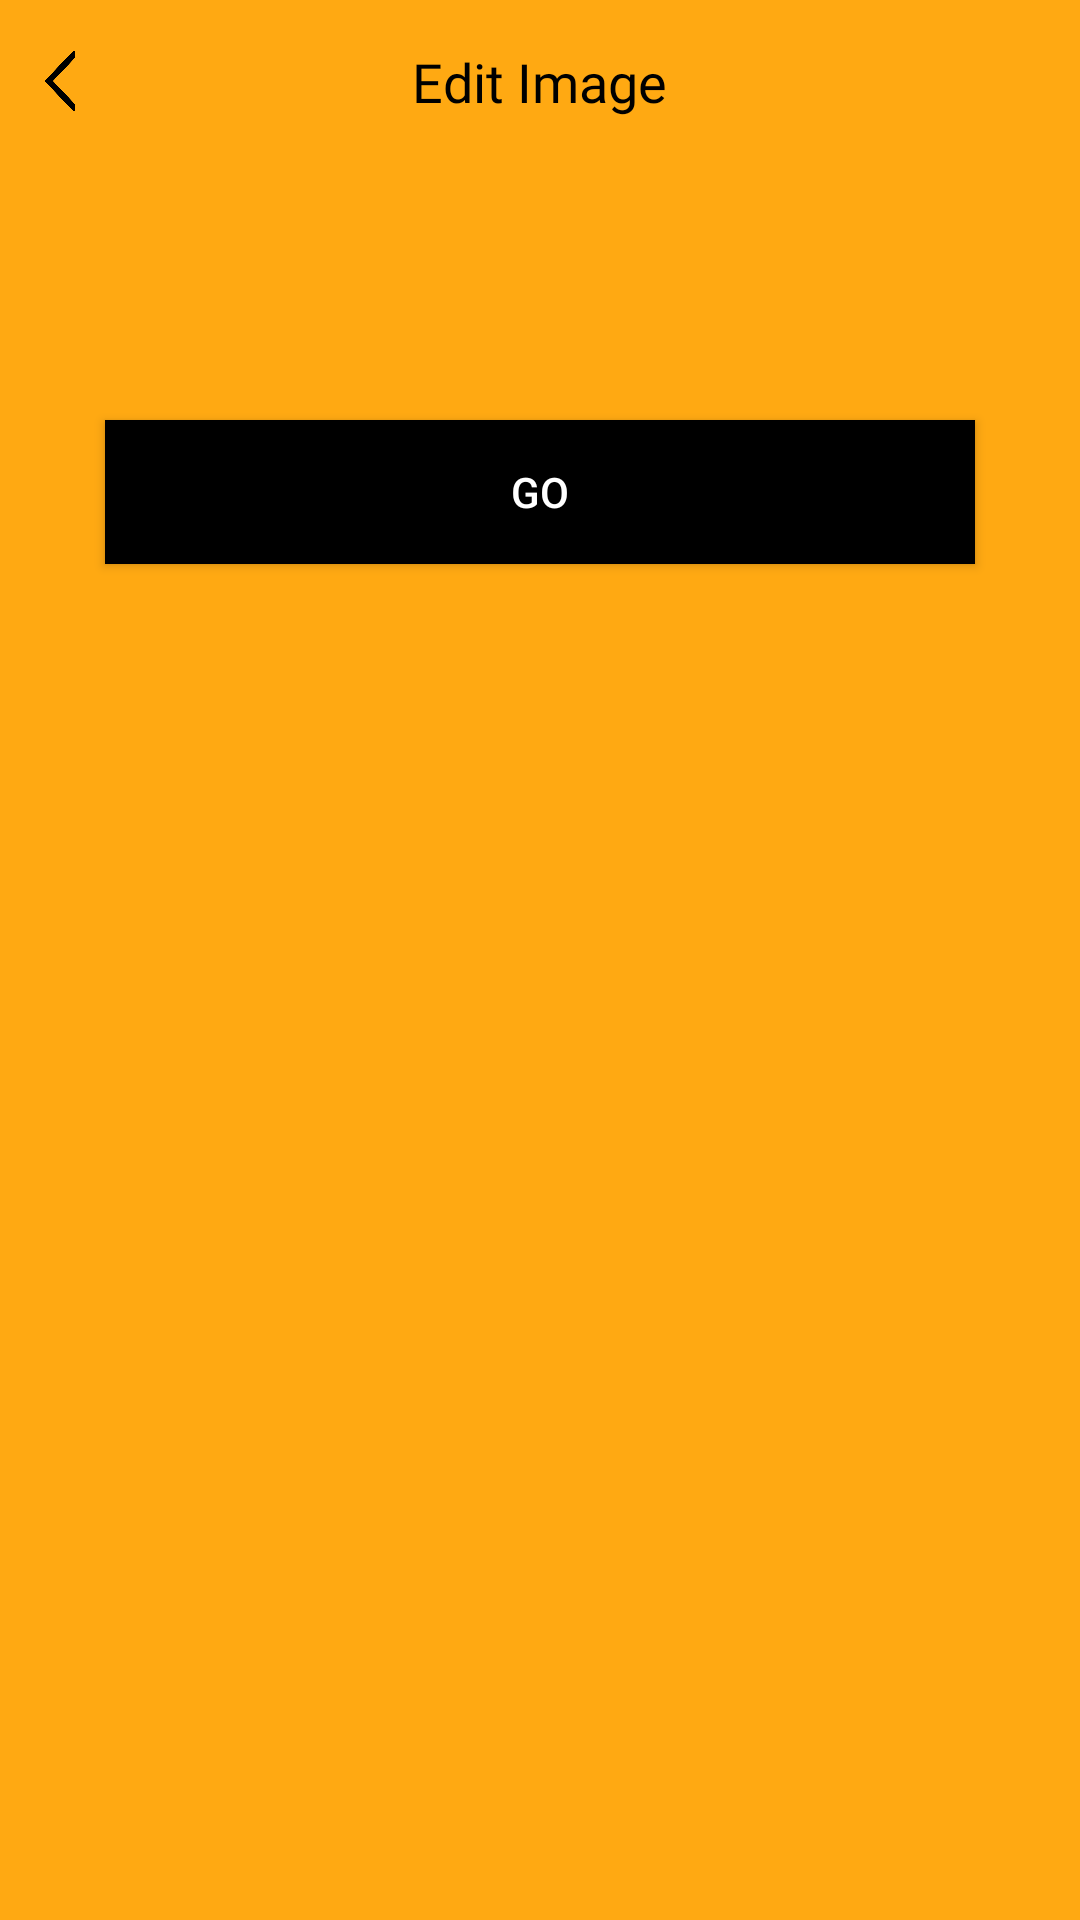

Named icons in this screenshot (1080w x 1920h) and their centers, point (x, y):
left: point (60, 81)
